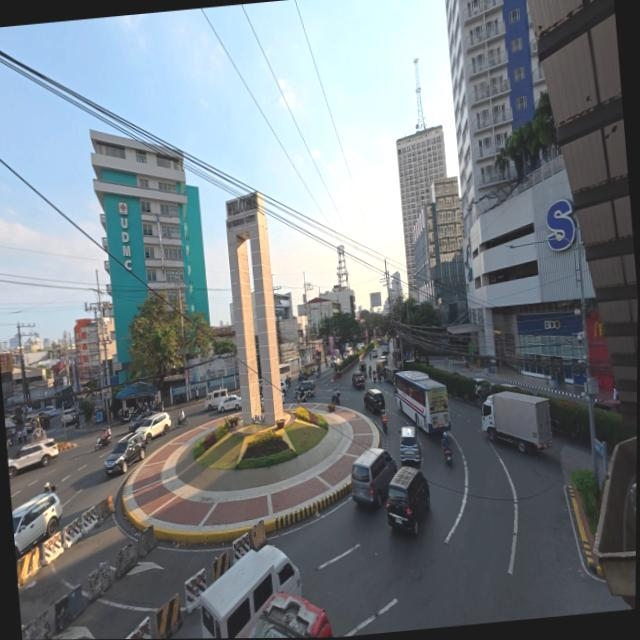bus: (248, 592, 333, 637), (395, 371, 451, 432), (279, 363, 291, 394), (279, 363, 290, 380), (381, 342, 389, 356)
car: (12, 493, 62, 561), (387, 467, 430, 536), (8, 439, 59, 479), (105, 433, 146, 473), (137, 413, 171, 443), (400, 426, 420, 462), (128, 410, 156, 432), (364, 389, 385, 412), (218, 395, 242, 412), (296, 381, 316, 398), (24, 414, 41, 432), (62, 409, 78, 426), (475, 378, 491, 395), (383, 366, 397, 382), (281, 381, 288, 394), (356, 343, 364, 350), (372, 349, 378, 357)
motorcycle: (96, 435, 111, 450), (121, 409, 133, 424), (381, 410, 388, 433), (175, 417, 188, 428), (445, 448, 453, 464), (296, 392, 307, 403), (154, 401, 164, 412), (174, 396, 185, 405), (332, 393, 340, 405), (315, 368, 321, 379), (373, 373, 376, 382)
trucks: (482, 391, 552, 452), (352, 371, 365, 388)
vans: (201, 545, 301, 637), (351, 448, 397, 506), (205, 388, 228, 408)
